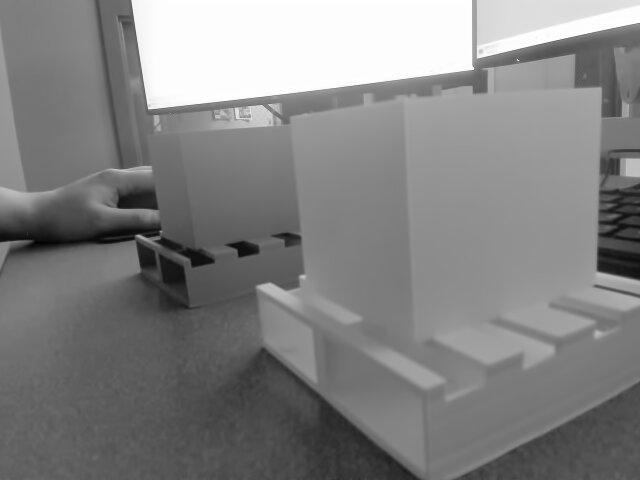grey pallet: (117, 110, 320, 309)
white pallet: (254, 80, 638, 480)
